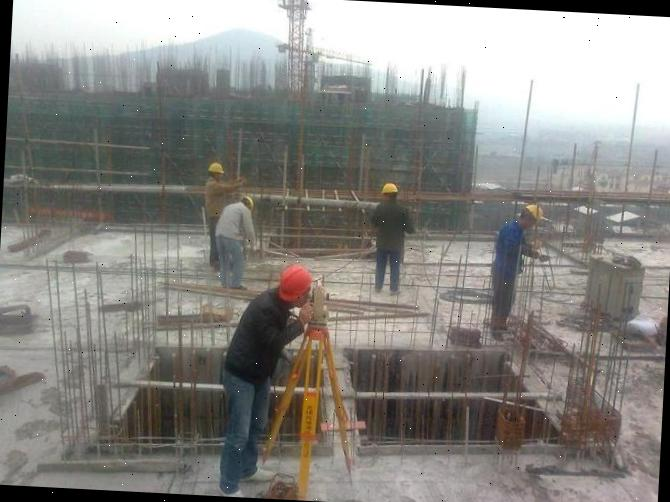helmet: (278, 264, 310, 306), (382, 179, 402, 196), (526, 201, 542, 222), (206, 161, 226, 176), (242, 196, 256, 210)
no_wear: (227, 294, 289, 386), (494, 222, 527, 279), (374, 202, 407, 250), (211, 204, 251, 241), (202, 180, 230, 221)
